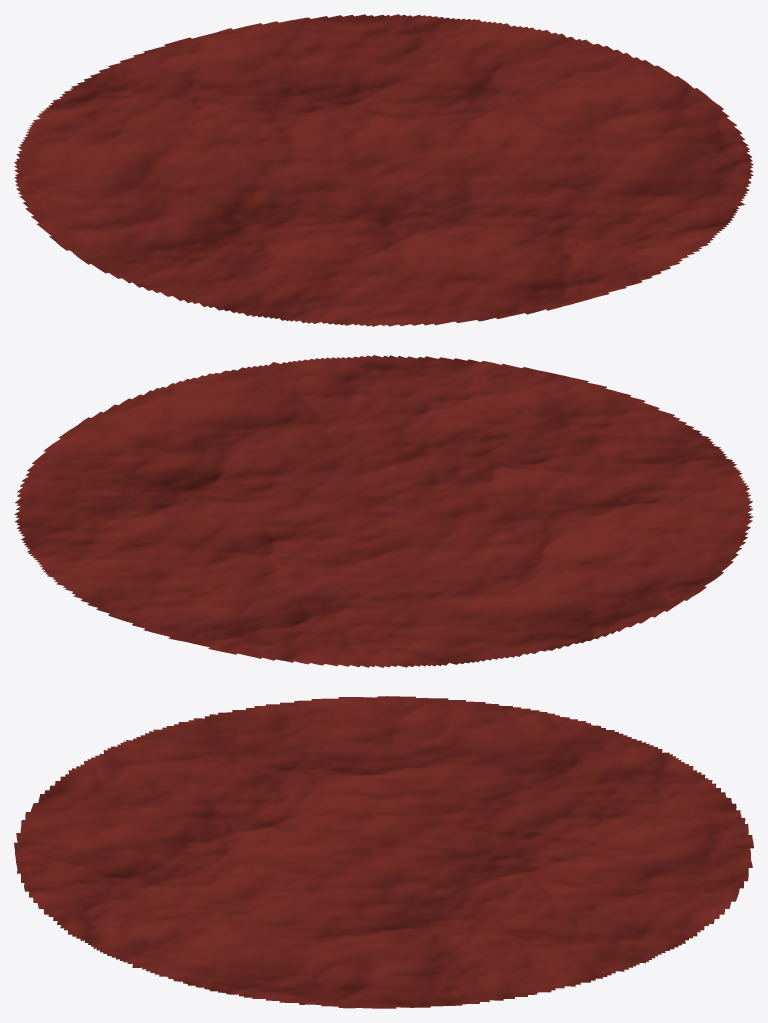
Rendered from blood.fbx.
3 renders of one model, top to bottom at view 1: azimuth 30°, elevation 25°; view 2: azimuth 150°, elevation 25°; view 3: azimuth 270°, elevation 25°, orthographic.
Parts seen in each view (by area): view 1: Plane.001; view 2: Plane.001; view 3: Plane.001.
Part boxes in pixels (<box>): Plane.001: <box>14,14,753,326</box>; Plane.001: <box>14,355,753,667</box>; Plane.001: <box>14,696,753,1008</box>.
Bounding box in the file's own units: 781 × 5.9e-05 × 781.
